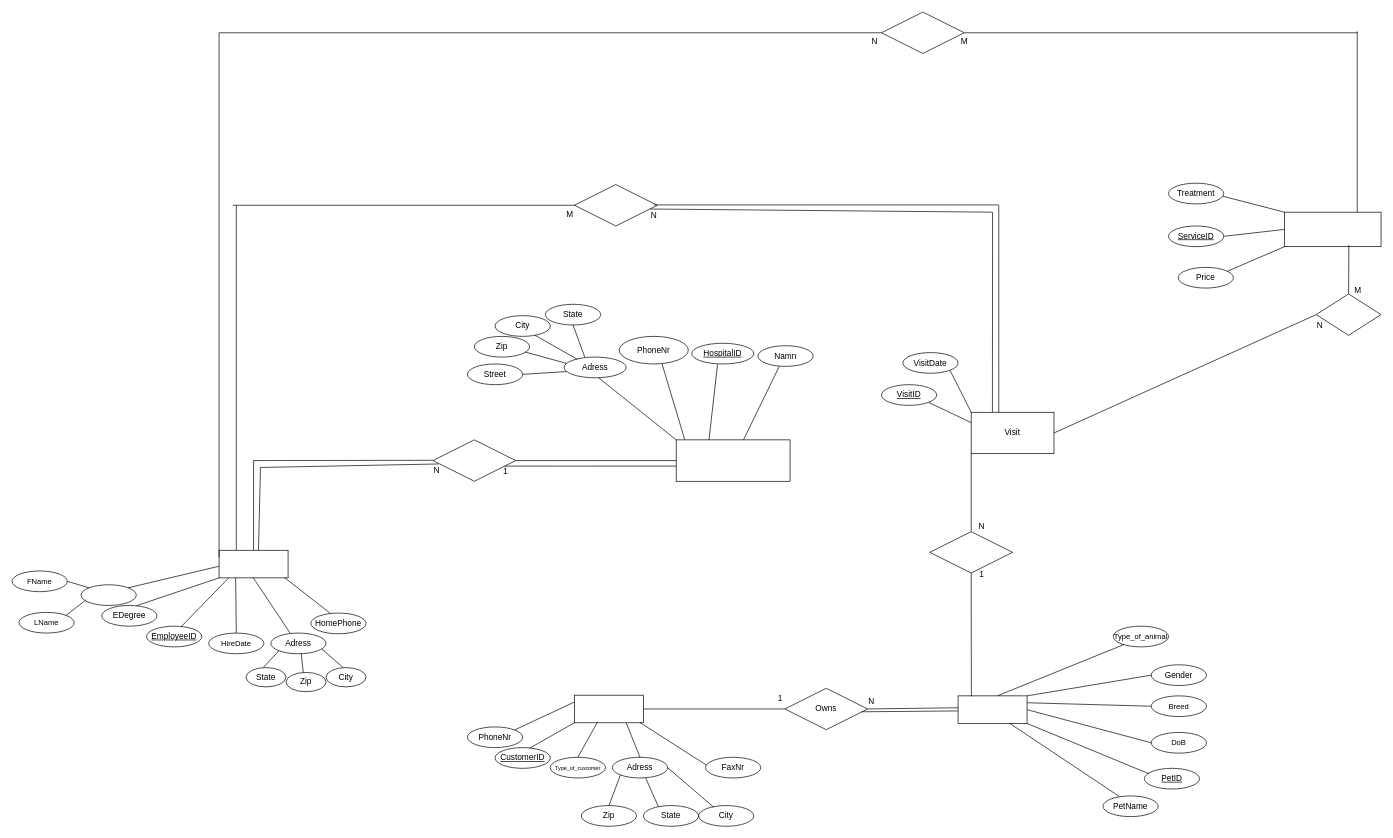
Image size: 1393x838. Some labels were removed from this diagram. The box of each missing label's shape, as (x1, y1, x2, y2) in pixels:
Customer: (574, 694, 643, 723)
Employee: (218, 550, 288, 578)
Goes_to: (929, 531, 1013, 573)
Hospital: (676, 439, 790, 481)
Name: (80, 584, 136, 605)
Performed_by: (574, 184, 657, 226)
Pet: (957, 695, 1027, 723)
Provided_in: (1315, 293, 1381, 335)
Provides: (881, 11, 964, 53)
Service: (1284, 211, 1381, 247)
Works_at: (432, 439, 516, 481)
